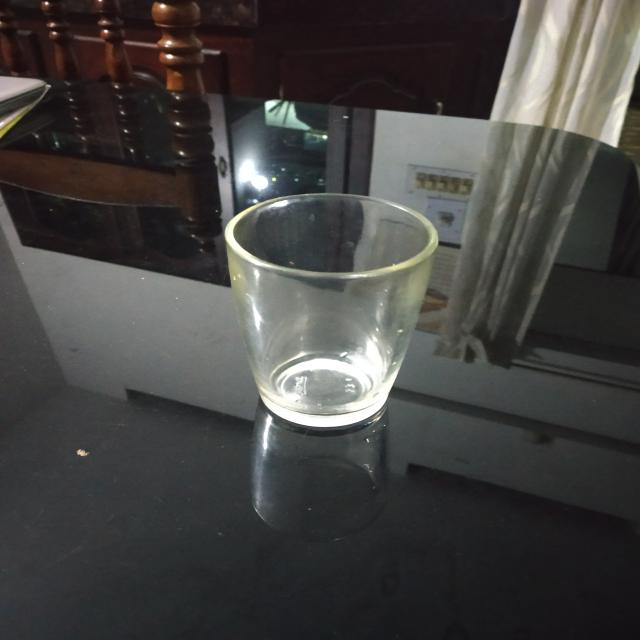Glass: (220, 189, 442, 429)
